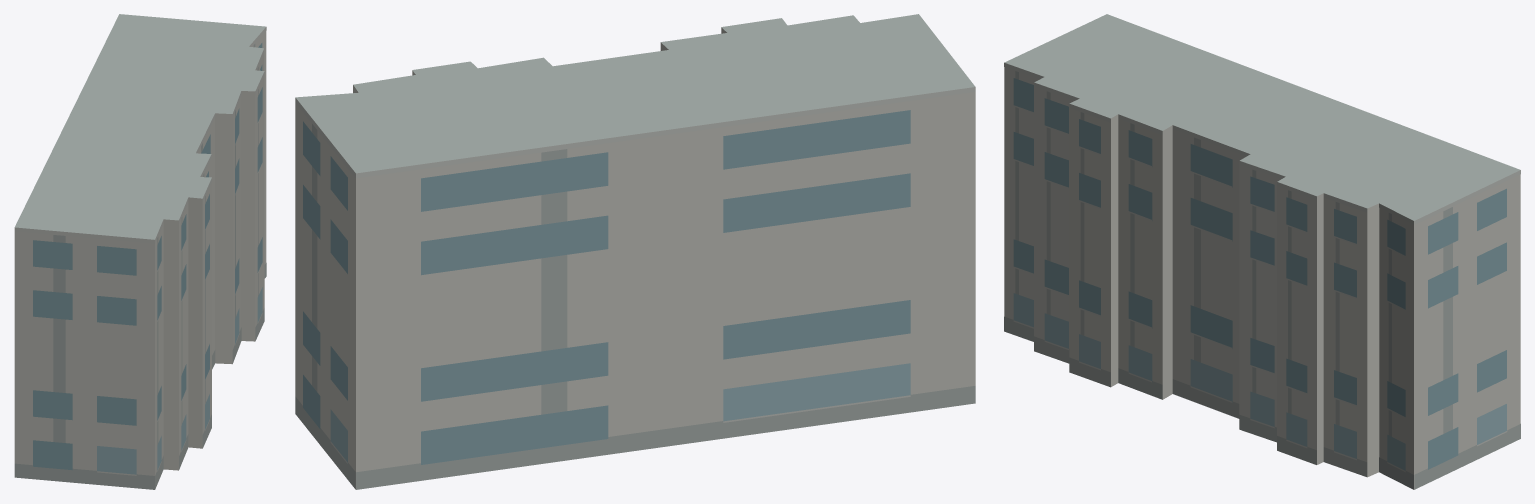
Rendered from survey-upis-32586285.glb.
3 renders of one model, left to right at view 1: azimuth 30°, elevation 25°; view 2: azimuth 150°, elevation 25°; view 3: azimuth 270°, elevation 25°, orthographic. The views are drawn at different scales.
Parts seen in each view (by area): view 1: survey-upis-32586285.tmp; view 2: survey-upis-32586285.tmp; view 3: survey-upis-32586285.tmp.
Part boxes in pixels (x1,y1,x2,y2): survey-upis-32586285.tmp: (14, 14, 266, 489); survey-upis-32586285.tmp: (295, 14, 975, 489); survey-upis-32586285.tmp: (1004, 14, 1520, 489).
Size of the model in its own units: 25.2 by 15.25 by 26.57.
